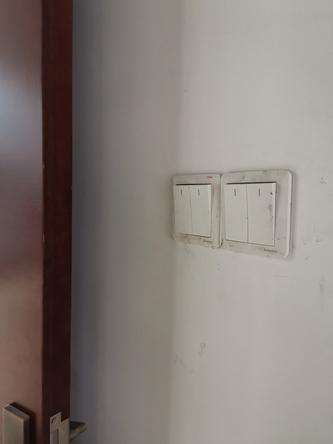switch: (244, 179, 280, 248), (221, 179, 252, 246), (186, 182, 214, 240), (169, 181, 196, 237)
